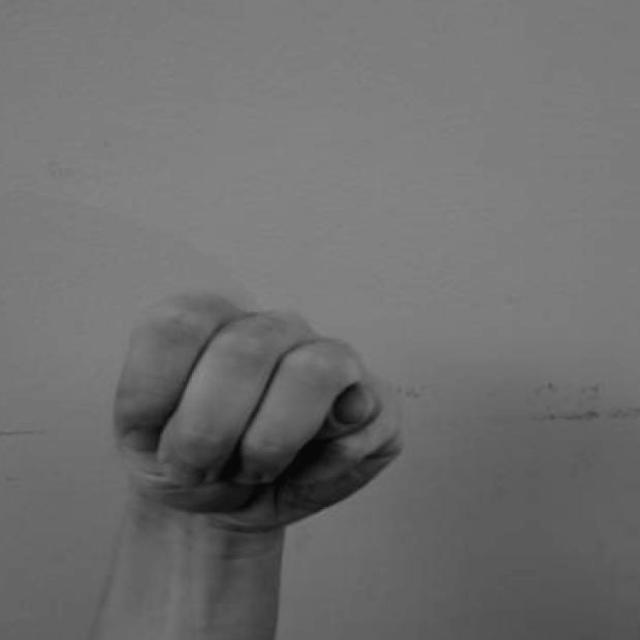M: (102, 274, 413, 557)
